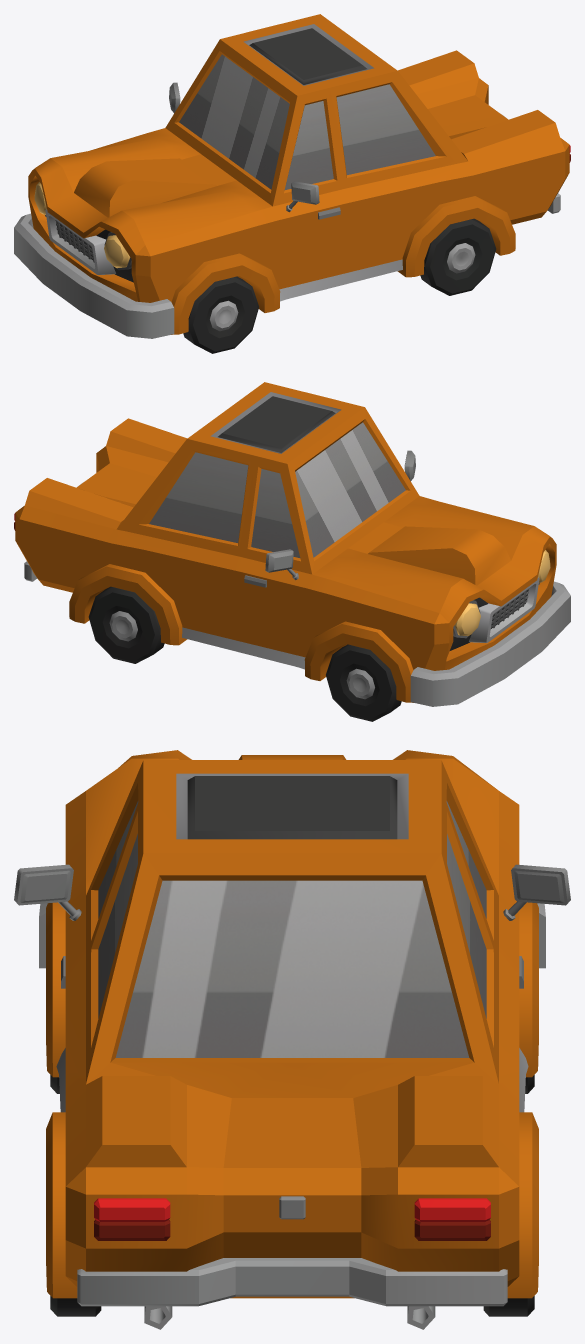
Rendered from Car_17_S.gltf.
3 renders of one model, top to bottom at view 1: azimuth 30°, elevation 25°; view 2: azimuth 150°, elevation 25°; view 3: azimuth 270°, elevation 25°, orthographic. The views are drawn at different scales.
Parts seen in each view (by area): view 1: Car_17_S, RL, FL; view 2: Car_17_S, RR, FR; view 3: Car_17_S, RL, RR.
Boxes of the visible parts, left/top/right/bottom form: Car_17_S: left=14, top=14, right=570, bottom=338; RL: left=420, top=218, right=496, bottom=295; FL: left=183, top=276, right=258, bottom=353; Car_17_S: left=14, top=382, right=570, bottom=706; RR: left=88, top=586, right=164, bottom=663; FR: left=326, top=644, right=401, bottom=721; Car_17_S: left=14, top=750, right=570, bottom=1329; RL: left=50, top=1296, right=101, bottom=1316; RR: left=483, top=1296, right=534, bottom=1316.
Bounding box in the file's own units: 3.39 × 1.53 × 1.85.
Materials: 4 (4 with a texture image).
